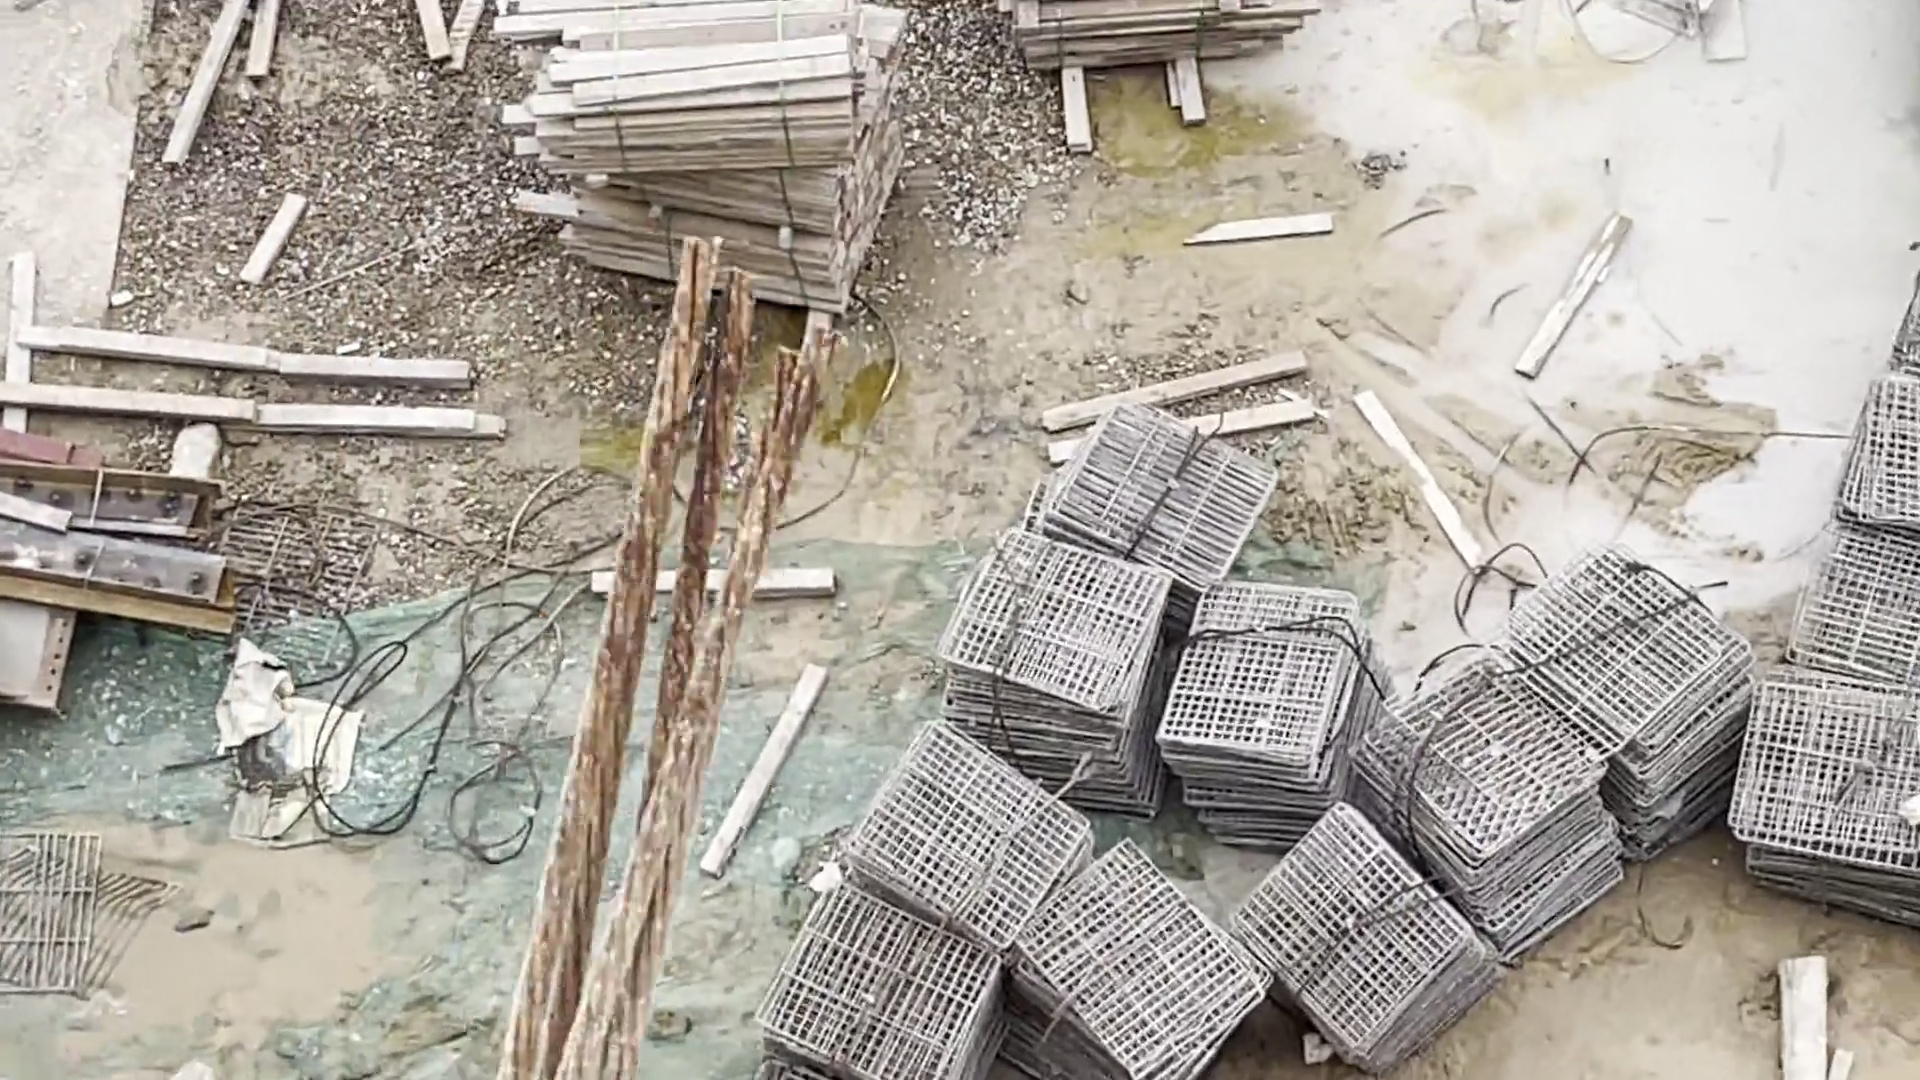wood: (506, 8, 858, 301)
